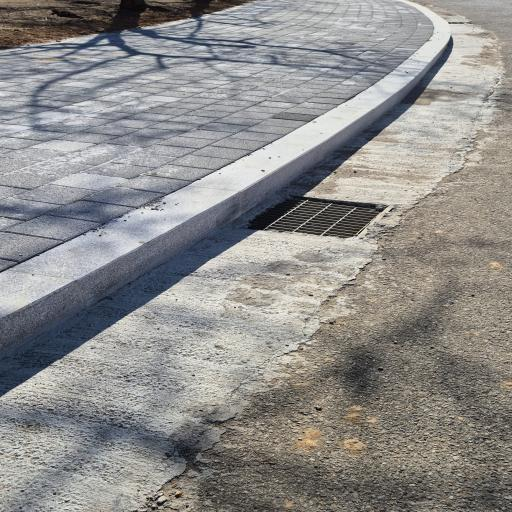drain: (249, 197, 379, 238)
